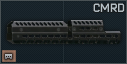AK Vltor CMRD KeyMod handguard: (0, 0, 127, 64)
